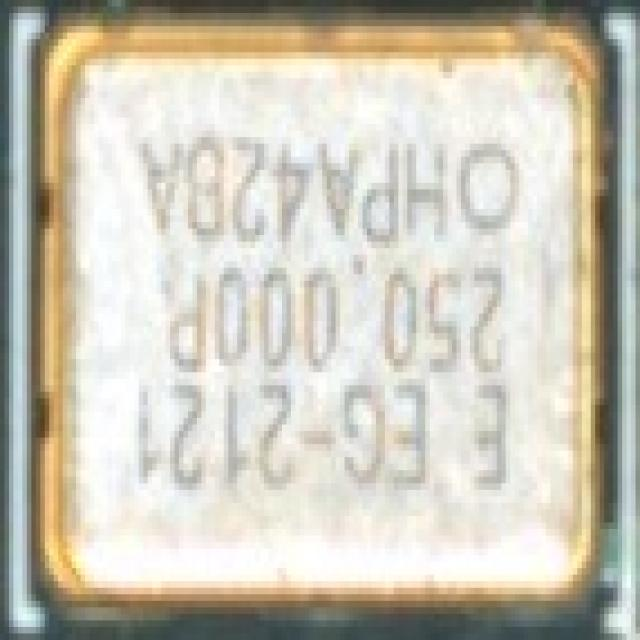clock Q1: (29, 14, 628, 636)
